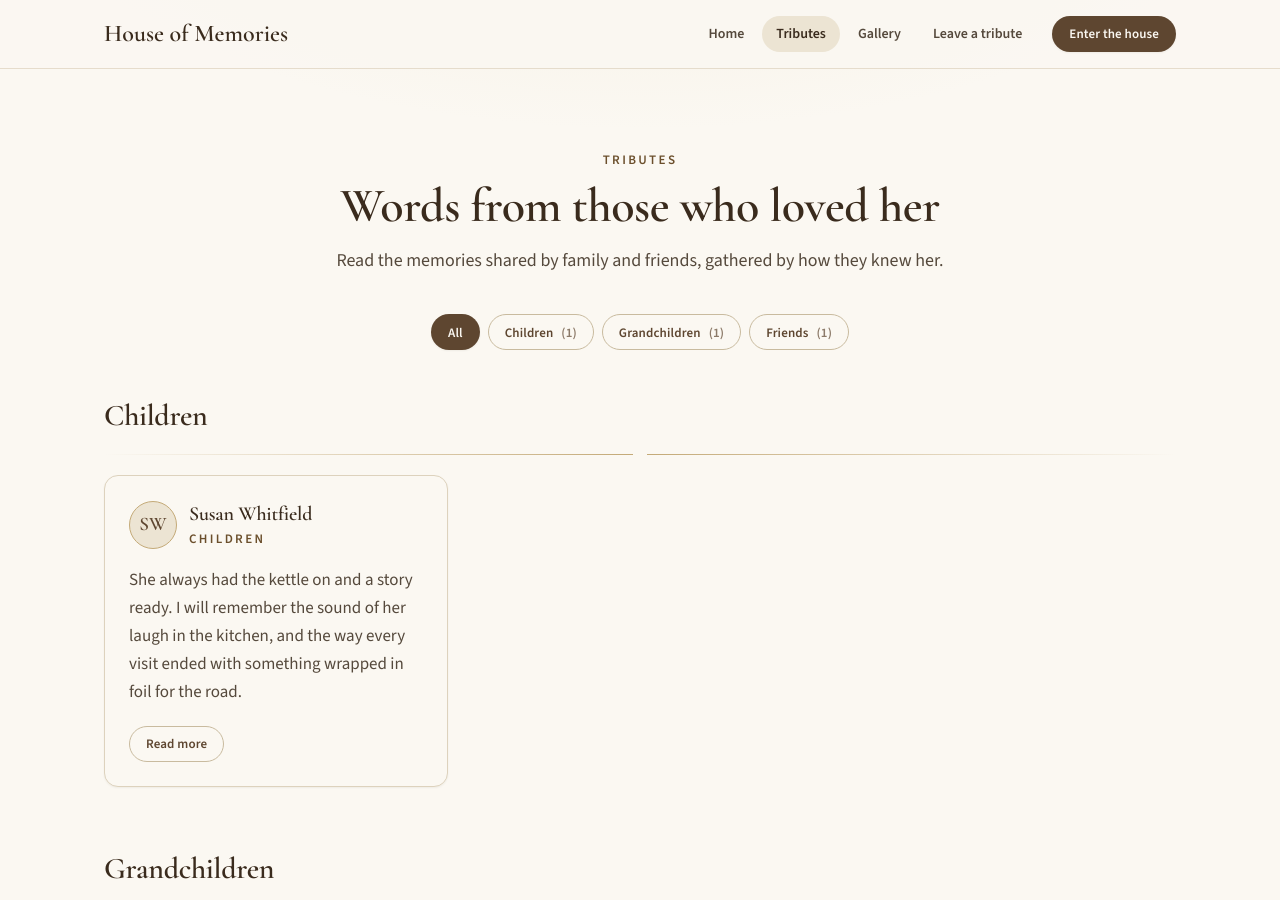
Test case: tribute browsing (2D, no WebGL needed) › filters to one category
The image size is (1280, 900).
Expected: the heading "Susan Whitfield" is shown, [189,500,312,528]
Step 1. Click the button "Friends (1)" → (799, 332), box [749,314,849,350]
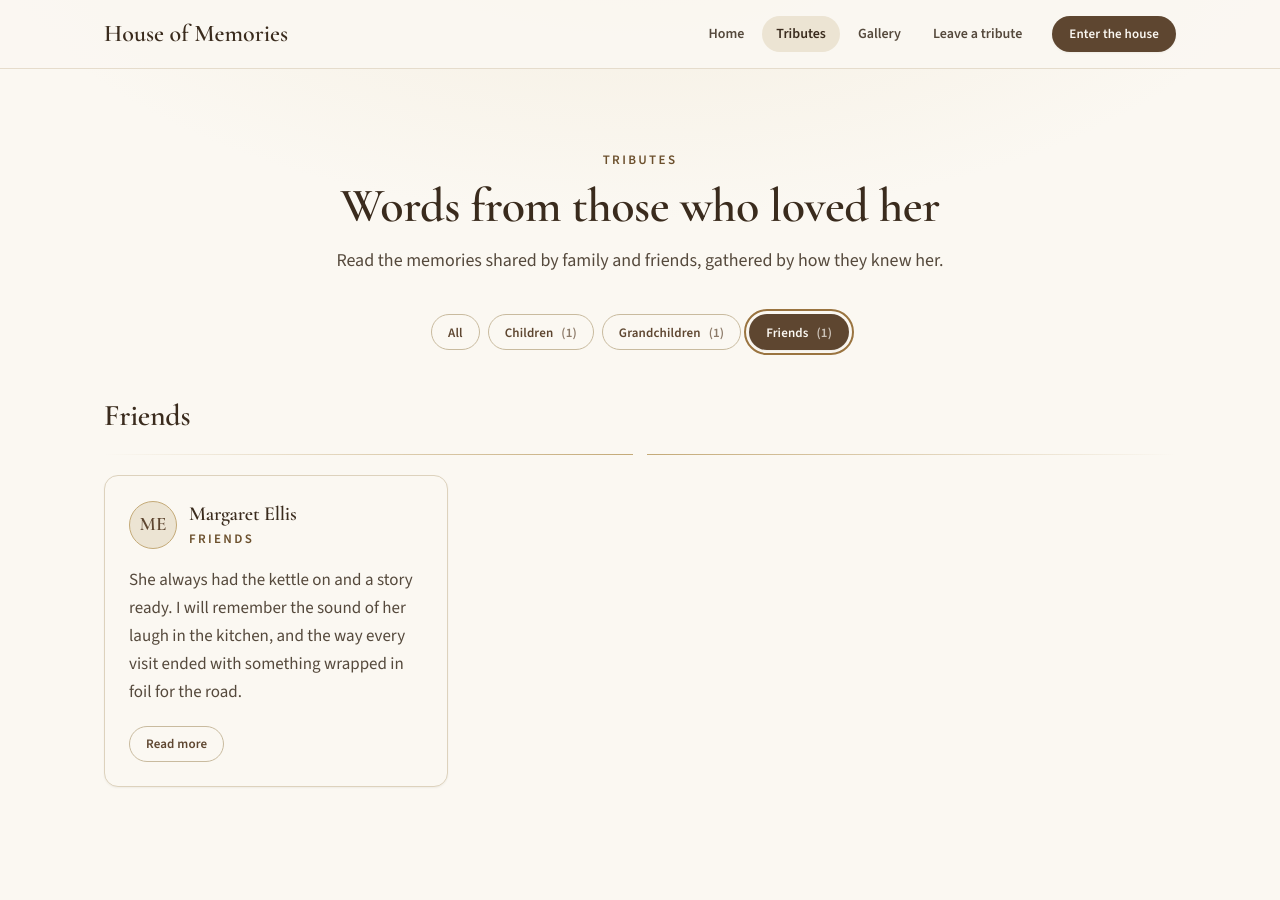
Expected: the heading "Margaret Ellis" is shown, [189,500,296,528]
Now the heading "Susan Whitfield" is gone
